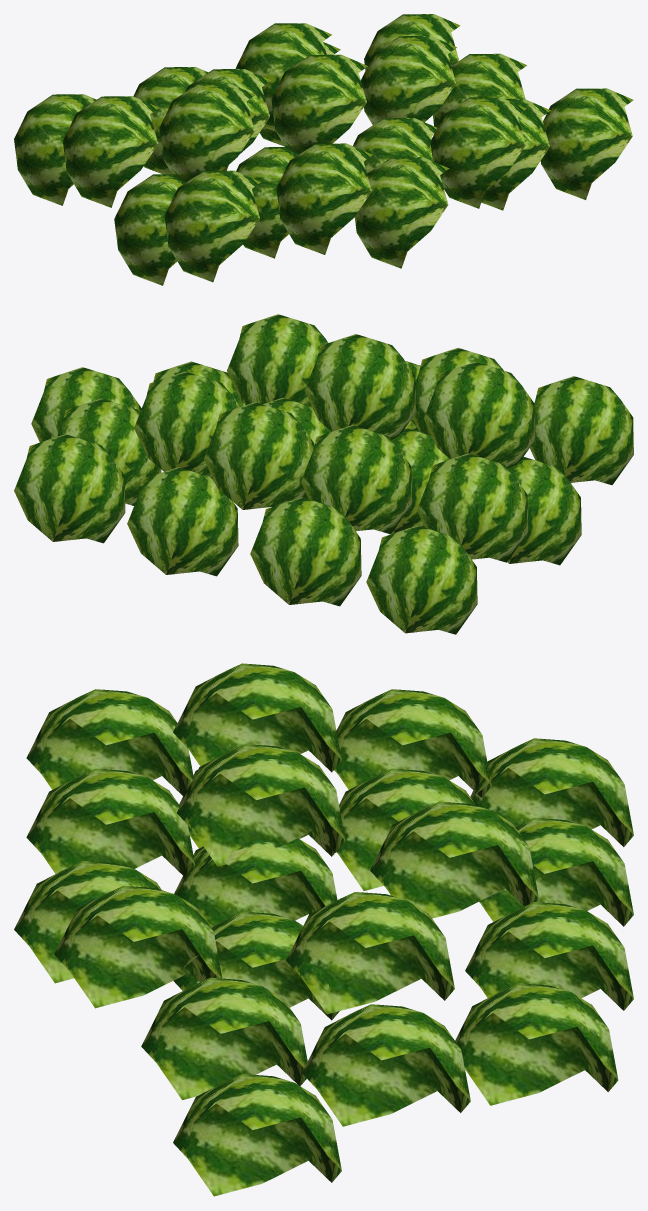
Rendered from arbuz.FBX.
3 views of the same model, one above another, from view 1: azimuth 30°, elevation 25°; view 2: azimuth 150°, elevation 25°; view 3: azimuth 270°, elevation 25° (orthographic). The views are drawn at different scales.
Parts seen in each view (by area): view 1: arbuz; view 2: arbuz; view 3: arbuz.
Part boxes in pixels (x1,y1,x2,y2): arbuz: (14, 14, 633, 285); arbuz: (14, 314, 633, 634); arbuz: (14, 663, 633, 1196).
Size of the model in its own units: 274 by 96.38 by 198.
